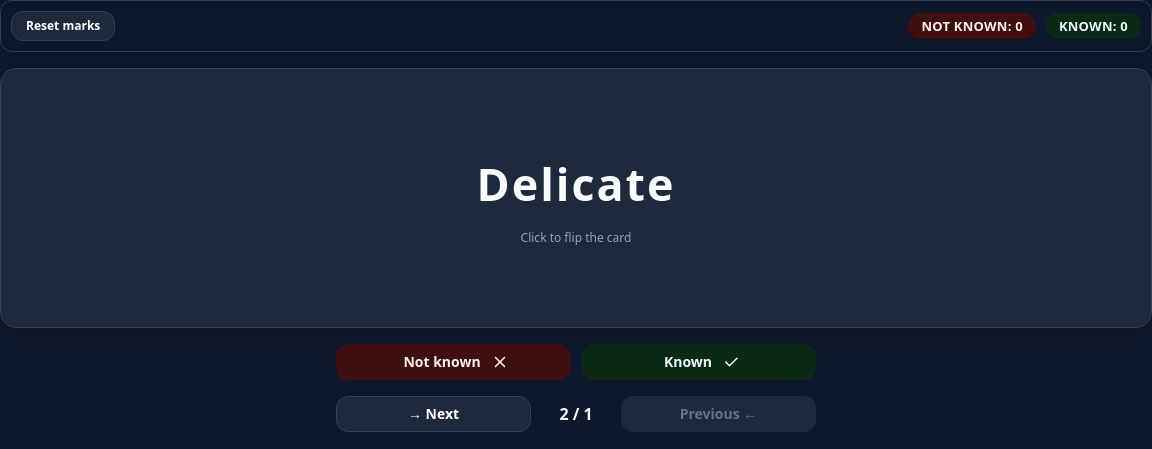
Test: FlashcardsTab › switching to the next card via the real Redux navigation resets the flip and shows the next word
Click the button with aria-label "Flashcard - click to flip" at {"x": 576, "y": 198}, box [0,68,1151,328]
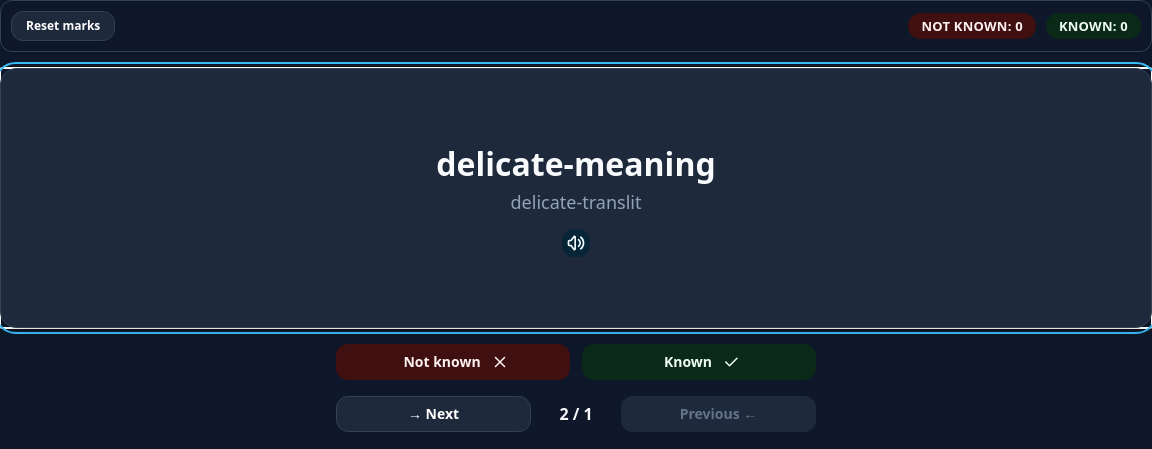
Expected: the button with aria-label "Flashcard - click to flip" is pressed, [0,68,1151,328]
Click the button "Next →" at {"x": 434, "y": 414}, box [336,396,531,432]
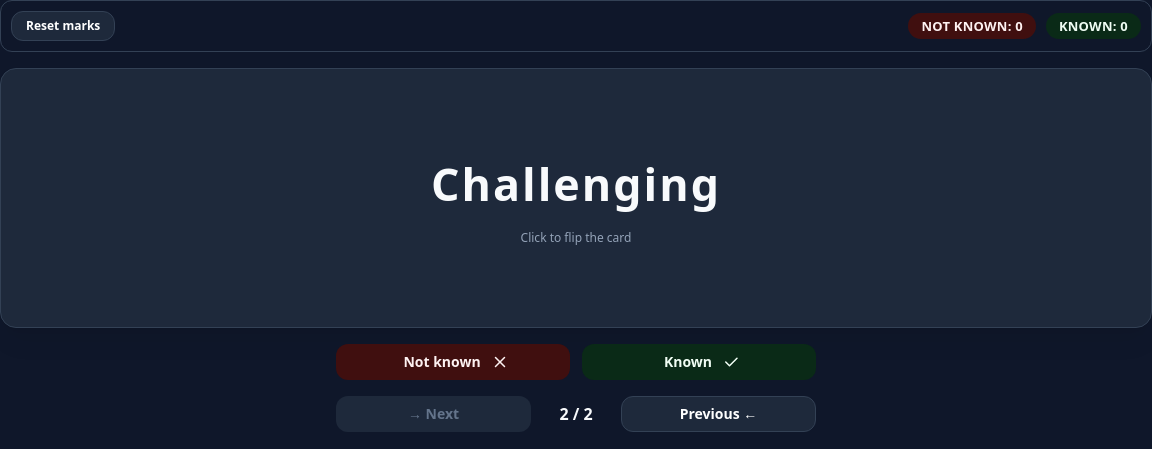
Expected: the text "Challenging" is shown, [431,149,721,218]
